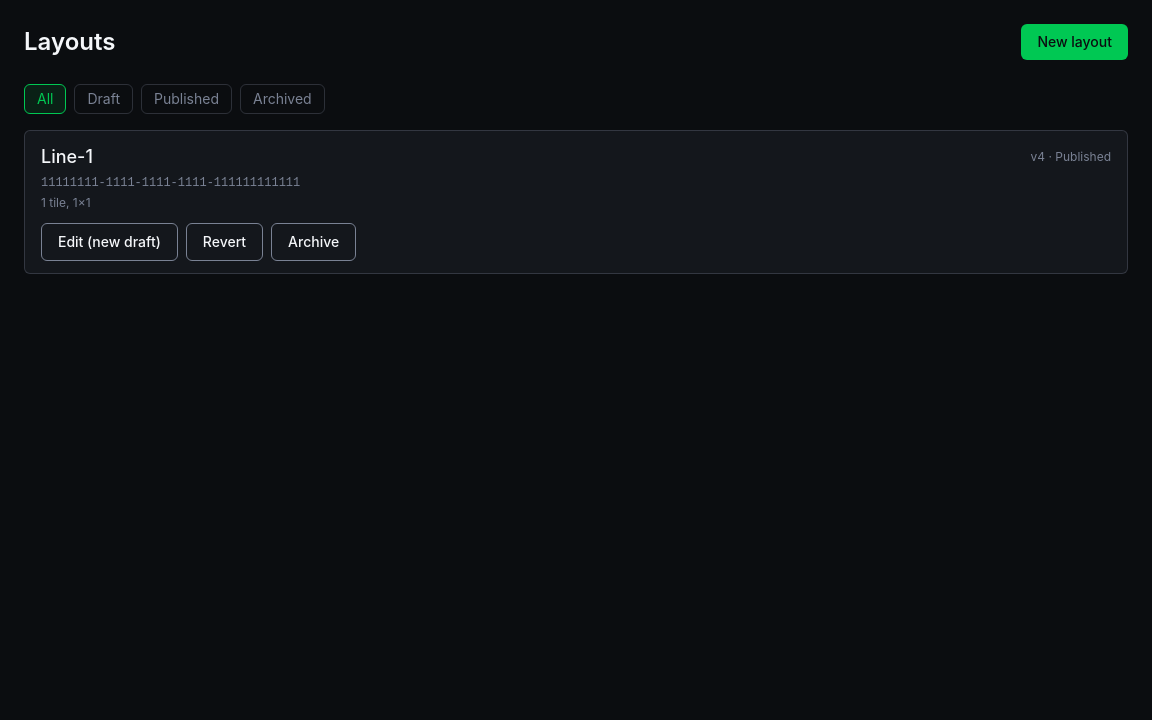
it: LayoutsPage — archive confirmation › Names the layout and revision, and shows no identifier
The width and height of the screenshot is (1152, 720).
Click the button "Archive": coordinates (314, 242) [271, 223, 356, 261]
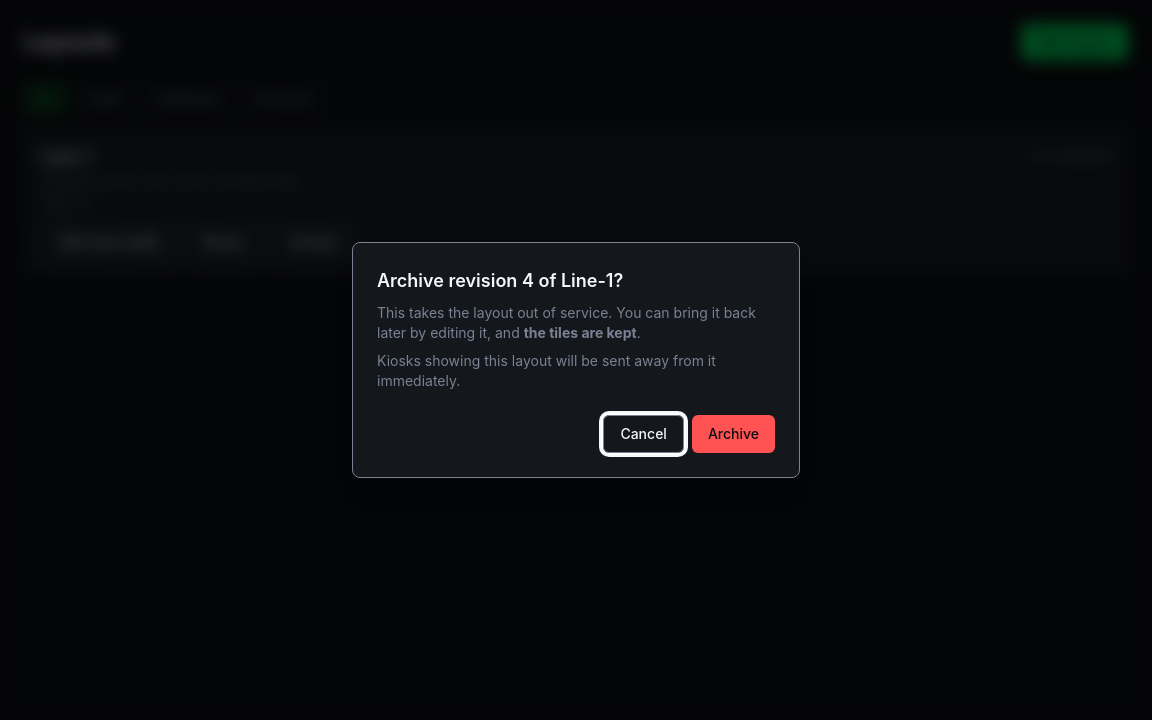
Expected: the dialog does not show "11111111-1111-1111-1111-111111111111", [352, 242, 800, 478]
Expected: the dialog shows "Line-1", [377, 270, 623, 291]
Expected: the dialog shows "4", [377, 270, 623, 291]
